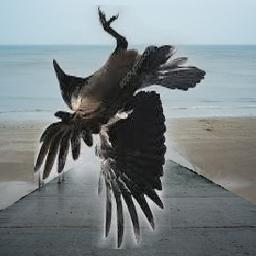Crow: (34, 5, 206, 249)
